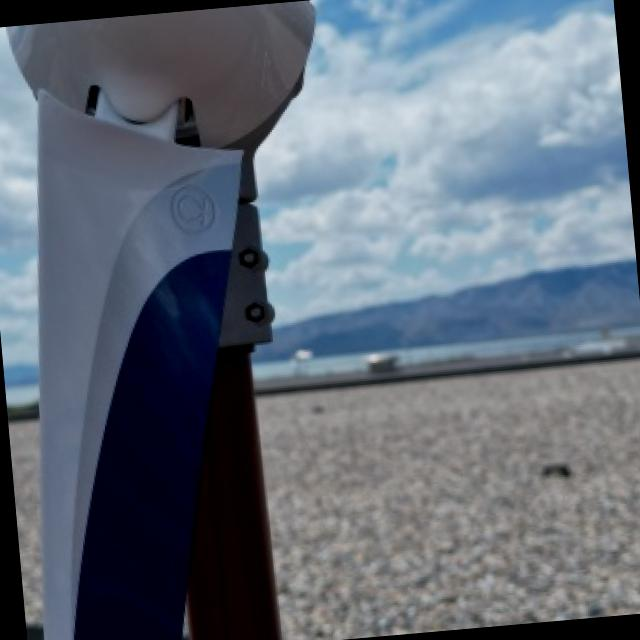healthy: (5, 4, 311, 640)
